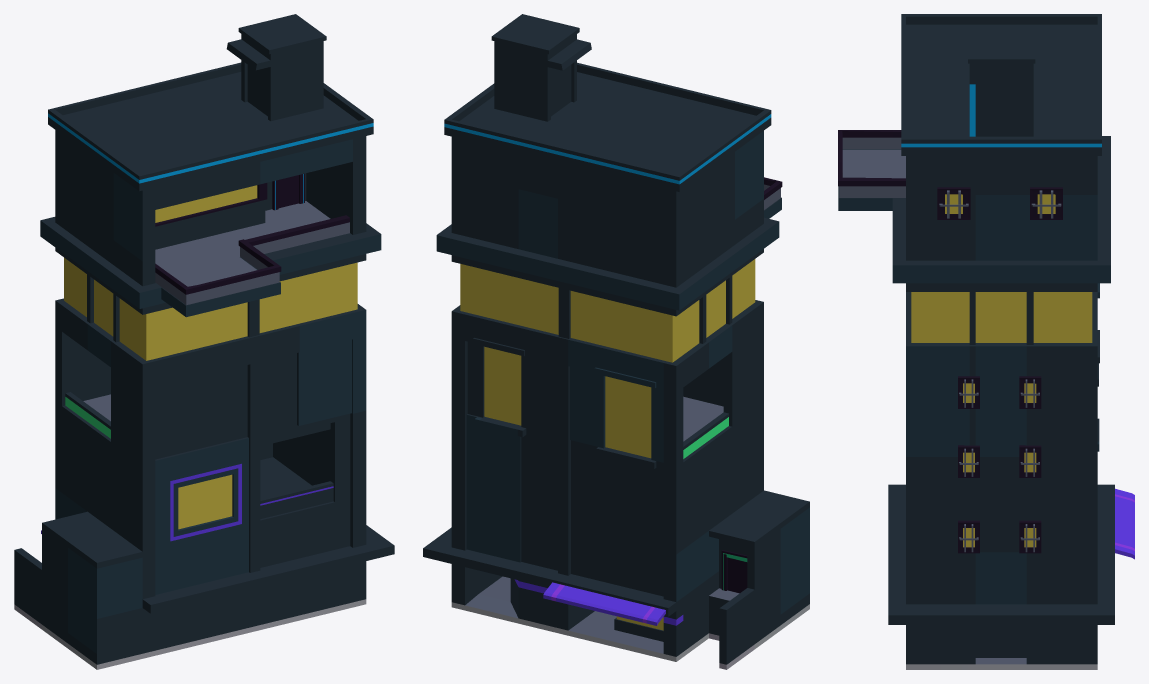
The model's file is Building_ConvenienceStoreTolBoi.fbx.
3 views of the same model, side by side, from view 1: azimuth 30°, elevation 25°; view 2: azimuth 150°, elevation 25°; view 3: azimuth 270°, elevation 25° (orthographic). The views are drawn at different scales.
Visible parts, largest first — view 1: Cube.076; view 2: Cube.076; view 3: Cube.076.
Part boxes in pixels (left/top/right/bottom): Cube.076: left=14, top=14, right=394, bottom=669; Cube.076: left=423, top=14, right=809, bottom=669; Cube.076: left=838, top=14, right=1134, bottom=669.
Bounding box in the file's own units: 1190 × 2159 × 961.
